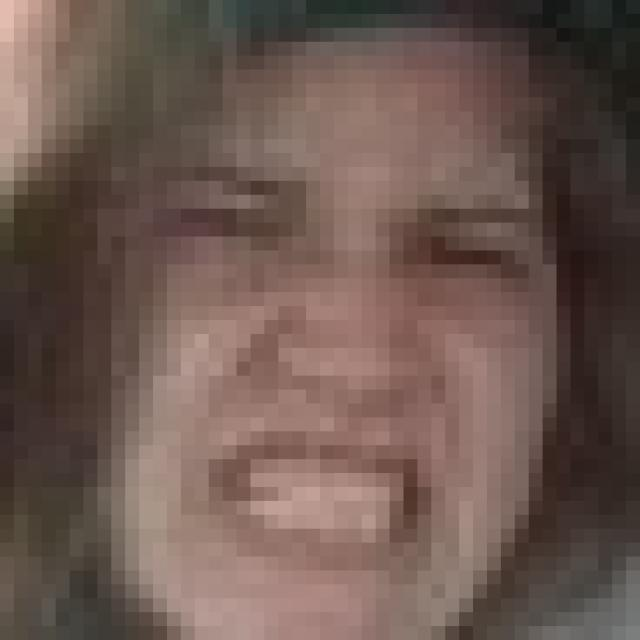Eyeclosed: (164, 192, 286, 252), (415, 232, 512, 277)
